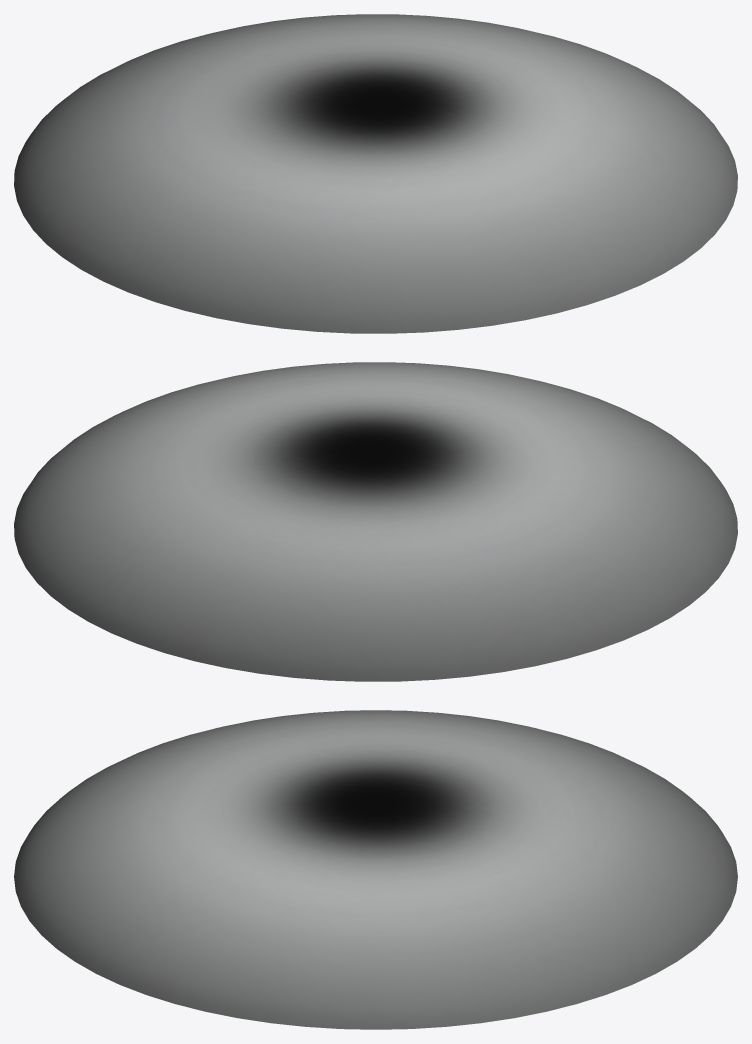
File: Drop.FBX
The picture shows the model from 3 angles, top to bottom: view 1: azimuth 30°, elevation 25°; view 2: azimuth 150°, elevation 25°; view 3: azimuth 270°, elevation 25°; orthographic projection.
Visible parts, largest first — view 1: Sphere001; view 2: Sphere001; view 3: Sphere001.
Part boxes in pixels (x1=…): Sphere001: x1=14, y1=14, x2=737, y2=333; Sphere001: x1=14, y1=362, x2=737, y2=681; Sphere001: x1=14, y1=710, x2=737, y2=1029.
Size of the model in its own units: 9.77 by 9.77 by 1.12.
